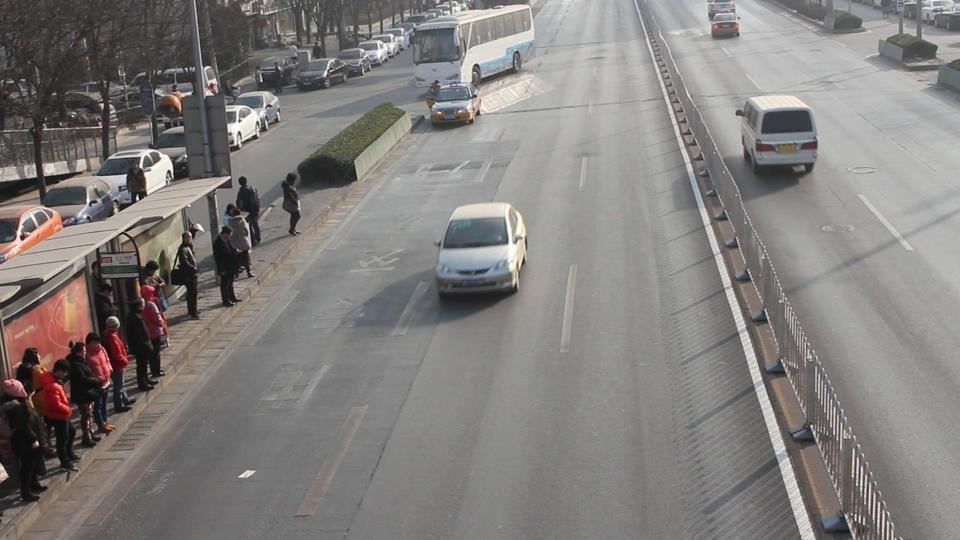car: (433, 201, 529, 295), (42, 161, 165, 218), (734, 93, 819, 175), (159, 102, 259, 153), (92, 148, 174, 204), (41, 176, 117, 228), (0, 205, 63, 265), (426, 81, 482, 127), (152, 129, 191, 181), (235, 91, 282, 129), (295, 59, 350, 91), (226, 104, 261, 148), (256, 57, 296, 92), (336, 43, 387, 70), (708, 2, 742, 40), (332, 49, 373, 77), (923, 1, 960, 29), (358, 39, 390, 66)
